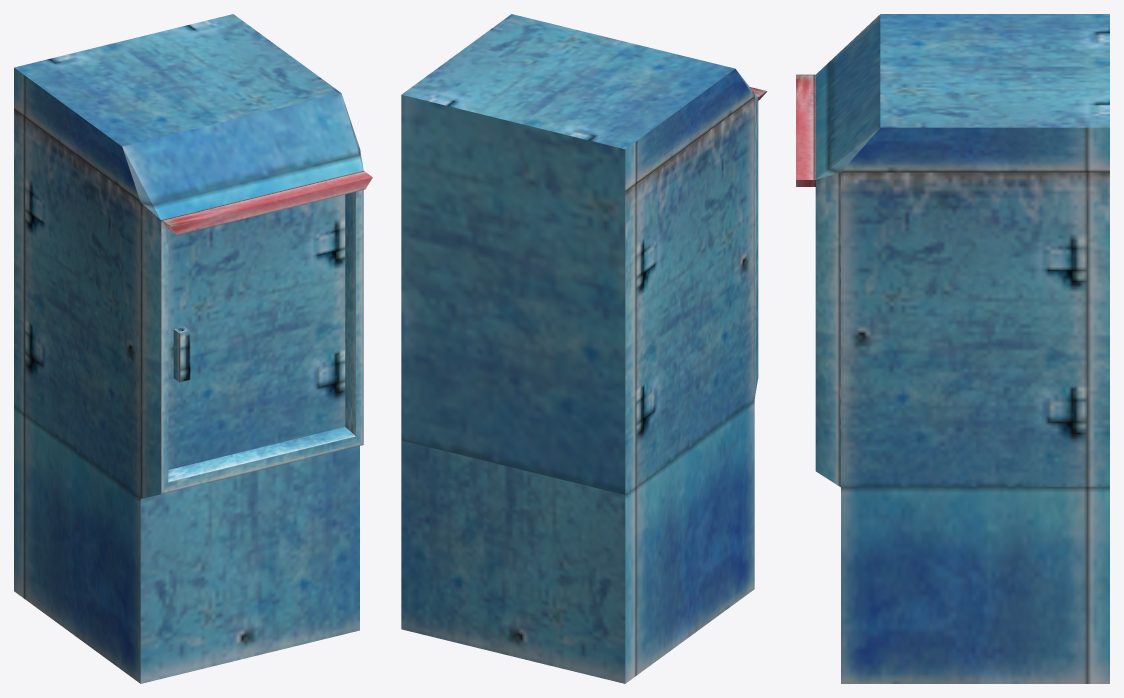
The model's file is Model_NewsPaper_Box_02.fbx.
3 views of the same model, side by side, from view 1: azimuth 30°, elevation 25°; view 2: azimuth 150°, elevation 25°; view 3: azimuth 270°, elevation 25° (orthographic). The views are drawn at different scales.
Visible parts, largest first — view 1: Box_02; view 2: Box_02; view 3: Box_02.
Part boxes in pixels (bbox=[...]): Box_02: bbox=[14, 14, 372, 683]; Box_02: bbox=[401, 14, 767, 683]; Box_02: bbox=[796, 14, 1109, 683].
Size of the model in its own units: 100 by 228 by 117.
